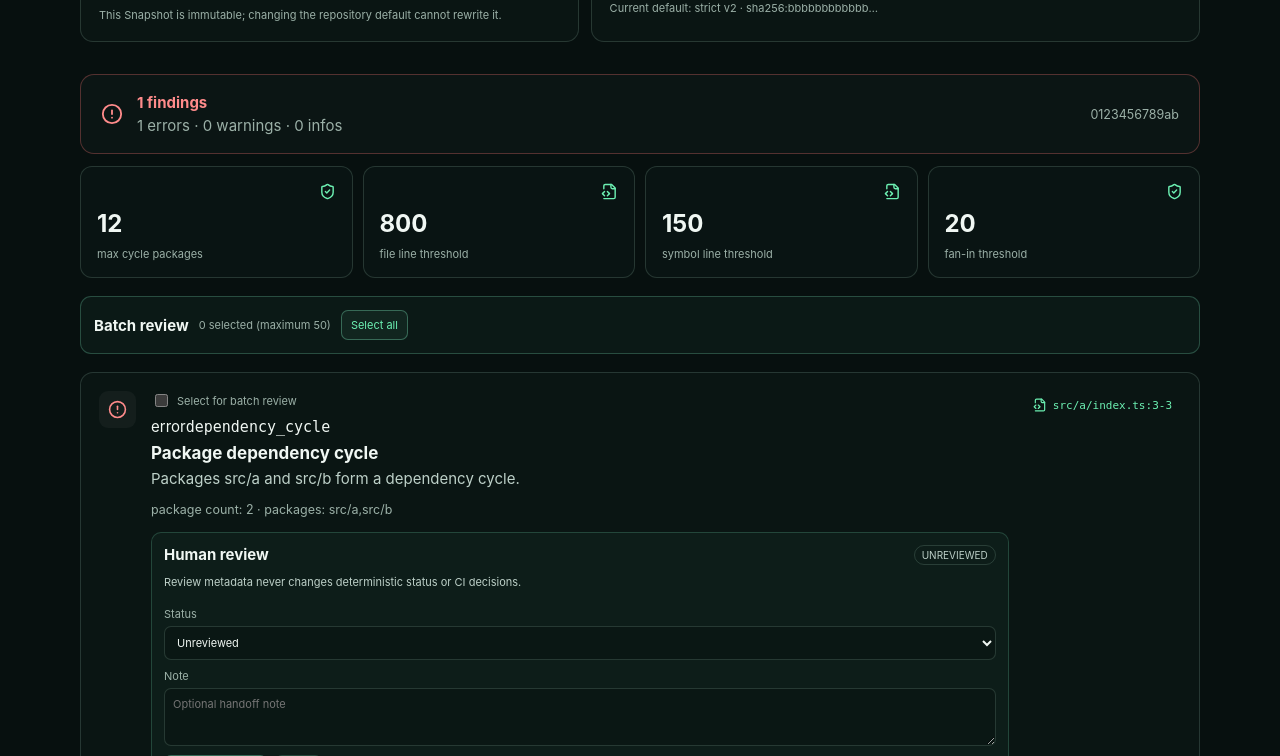
GuardrailsPanel › selects multiple Findings and applies one atomic batch review
(page scrolled)
Click the checkbox named "Select Package dependency cycle for batch review" at {"x": 162, "y": 401}, box [155,394,168,407]
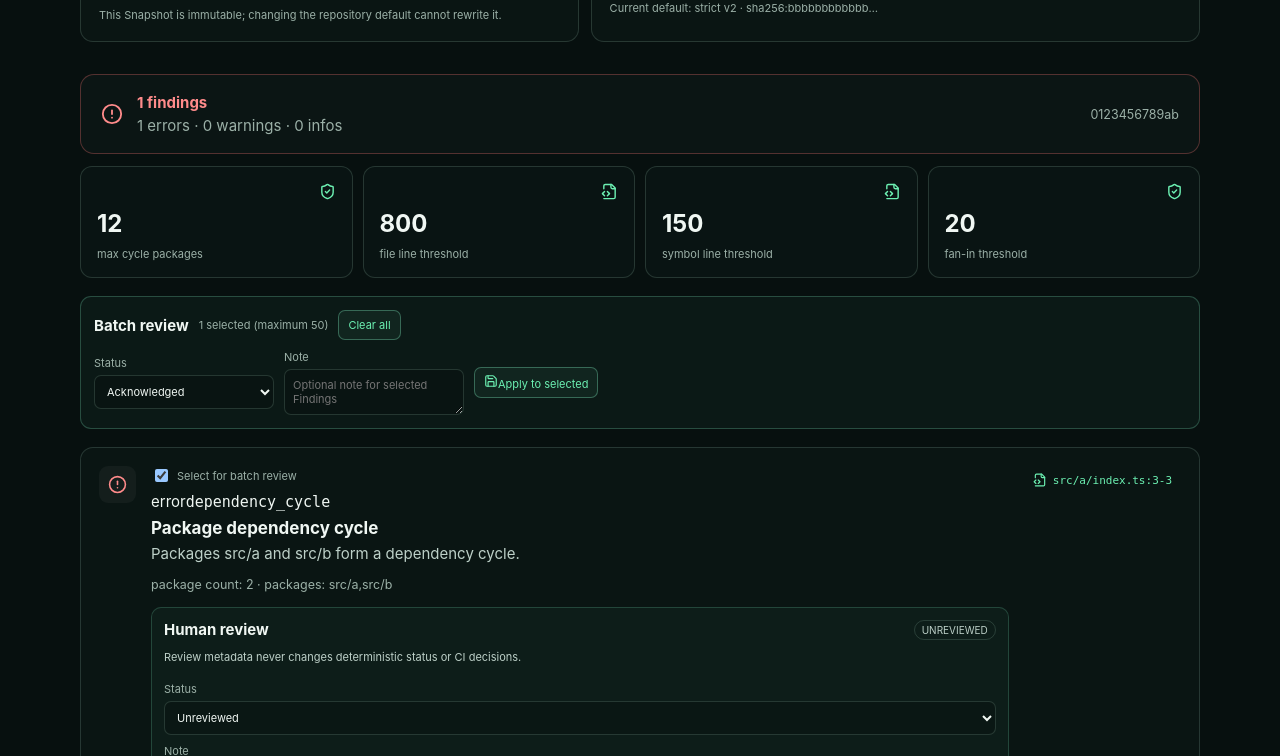
Select "Accepted risk" in the dropdown named "Batch review status" at {"x": 184, "y": 392}, box [94,375,274,409]
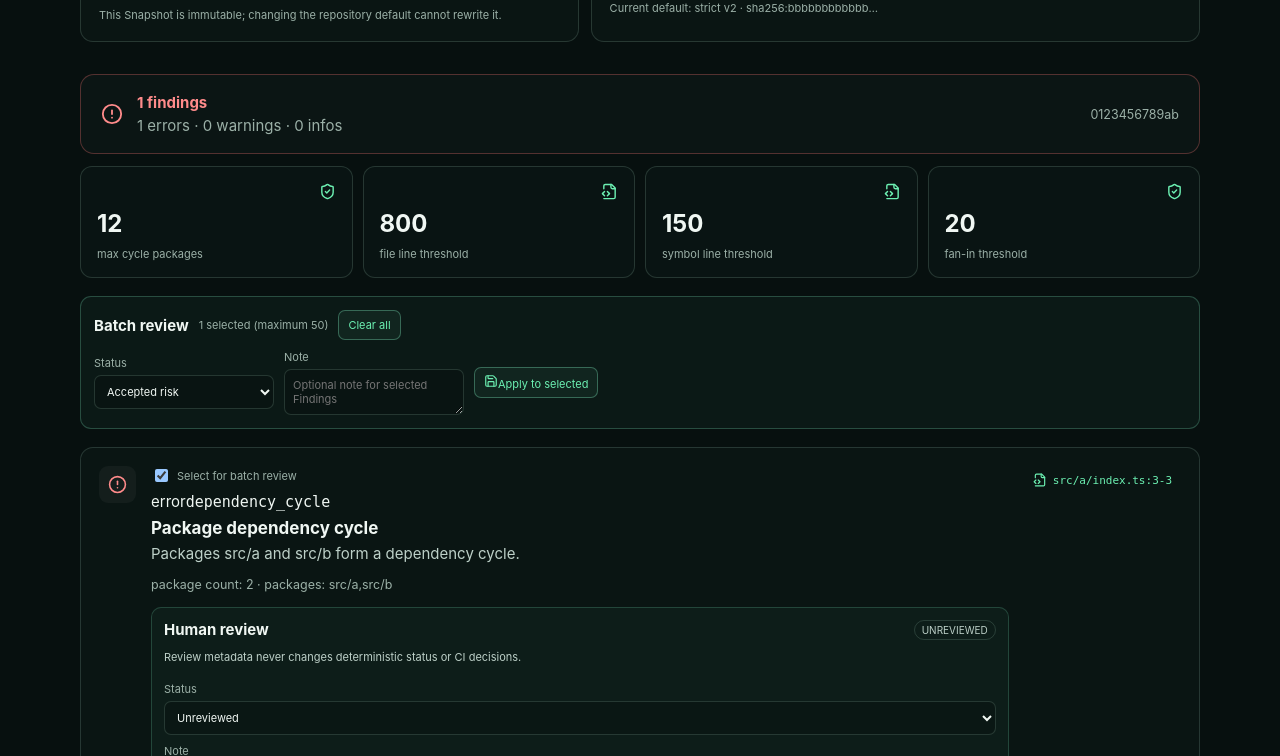
Type "Batch note" into the text box named "Batch review note" at {"x": 374, "y": 392}, box [284,369,464,415]
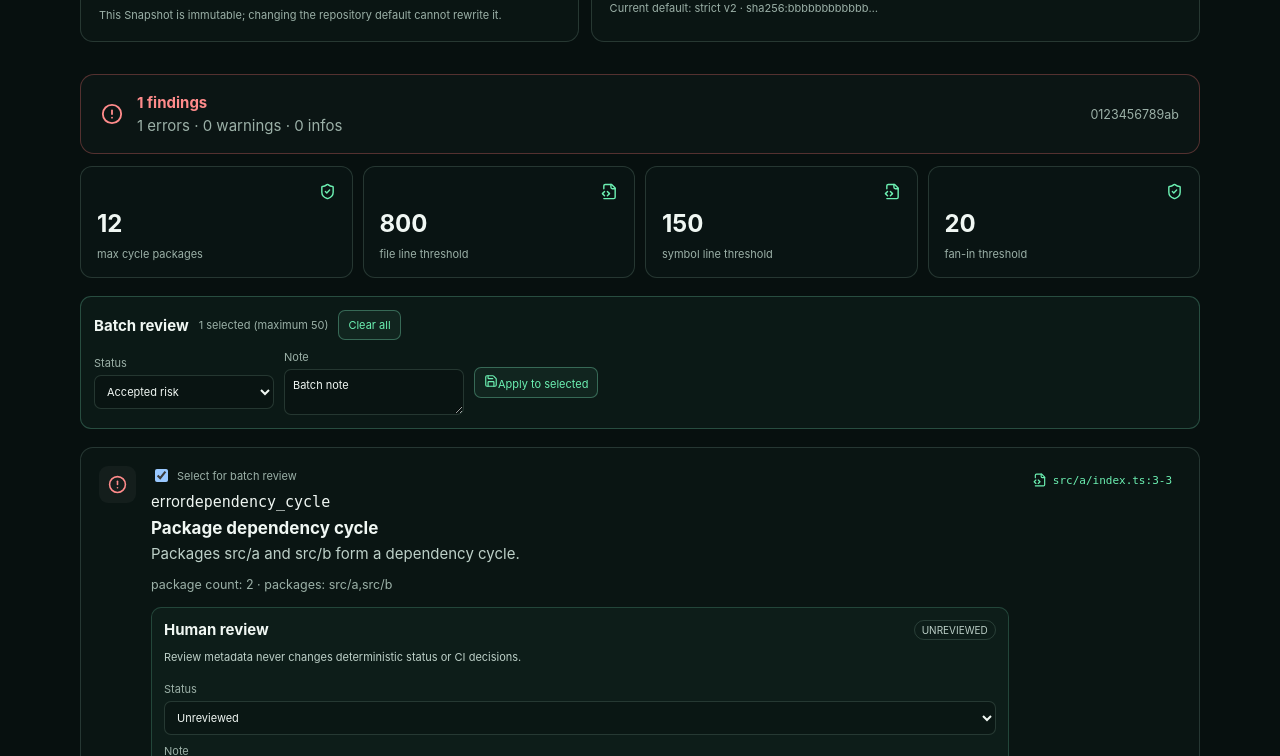
Click the button "Apply to selected" at {"x": 536, "y": 383}, box [474,367,598,398]
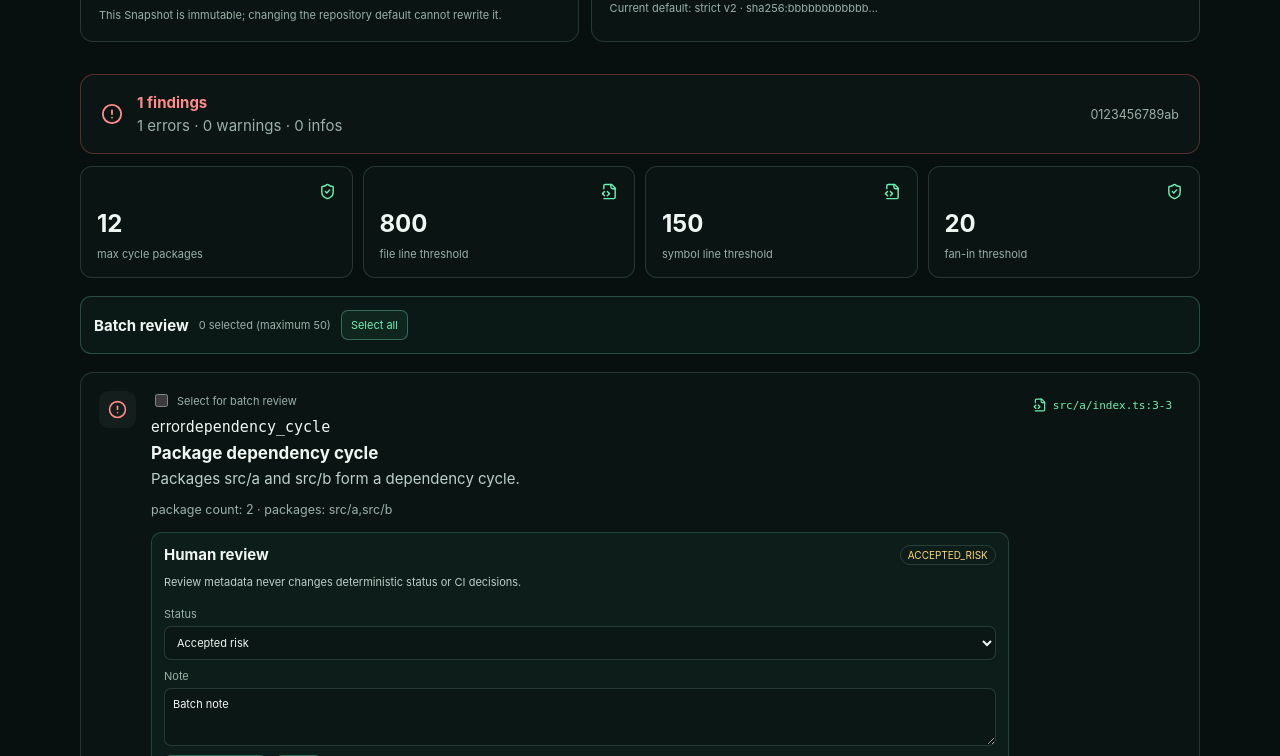
Now the checkbox named "Select Package dependency cycle for batch review" is not checked, box [155,394,168,407]
Now the text "accepted_risk" is shown, box [900,545,996,565]
Now the text box "Batch note" is shown, box [164,688,996,746]
